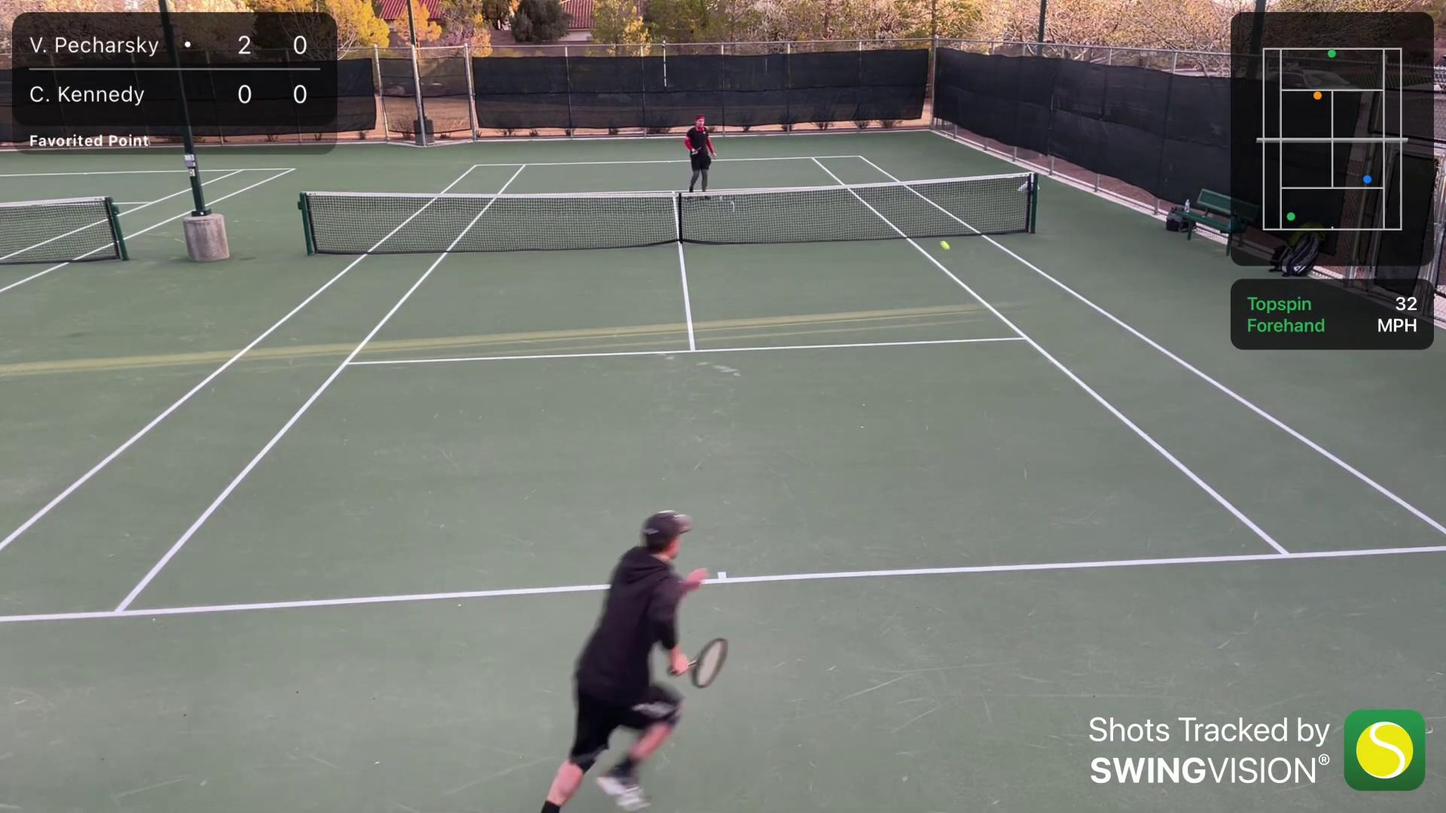ball: (937, 239, 955, 253)
